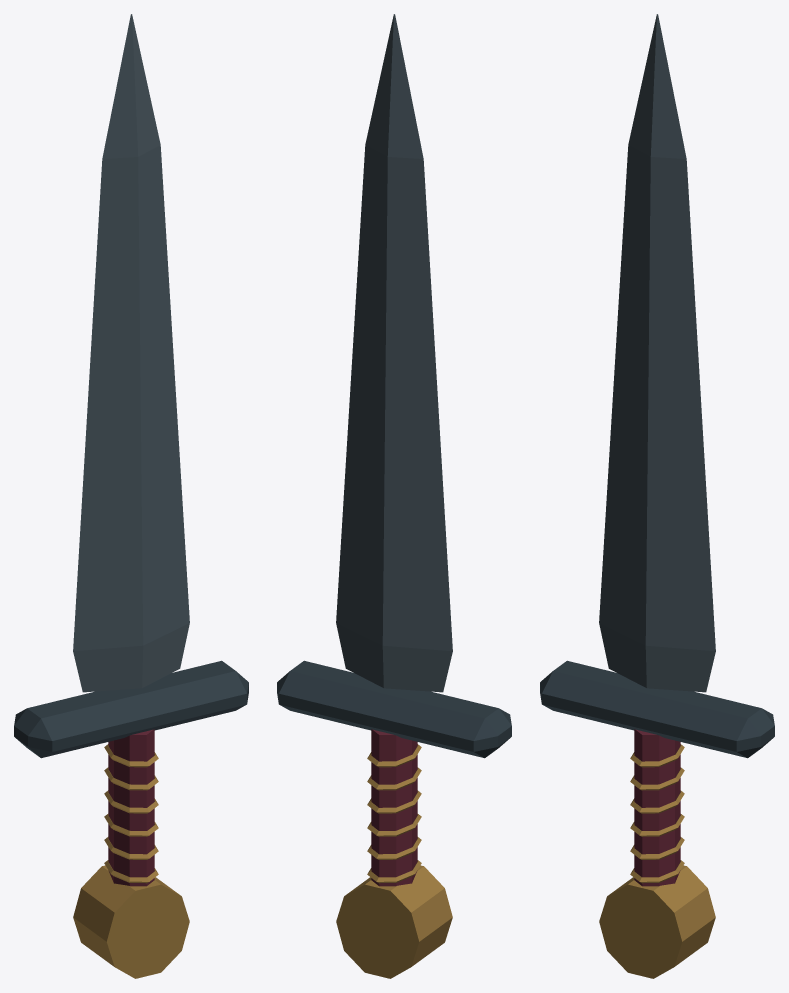
File: sword.glb
3 views of the same model, side by side, from view 1: azimuth 30°, elevation 25°; view 2: azimuth 150°, elevation 25°; view 3: azimuth 330°, elevation 25° (orthographic).
Parts seen in each view (by area): view 1: gth_equi_arming_sword; view 2: gth_equi_arming_sword; view 3: gth_equi_arming_sword.
Part boxes in pixels (x1,y1,x2,y2): gth_equi_arming_sword: (14,14,248,978); gth_equi_arming_sword: (277,14,511,978); gth_equi_arming_sword: (540,14,774,978).
Size of the model in its own units: 0.28 by 1.15 by 0.08.
